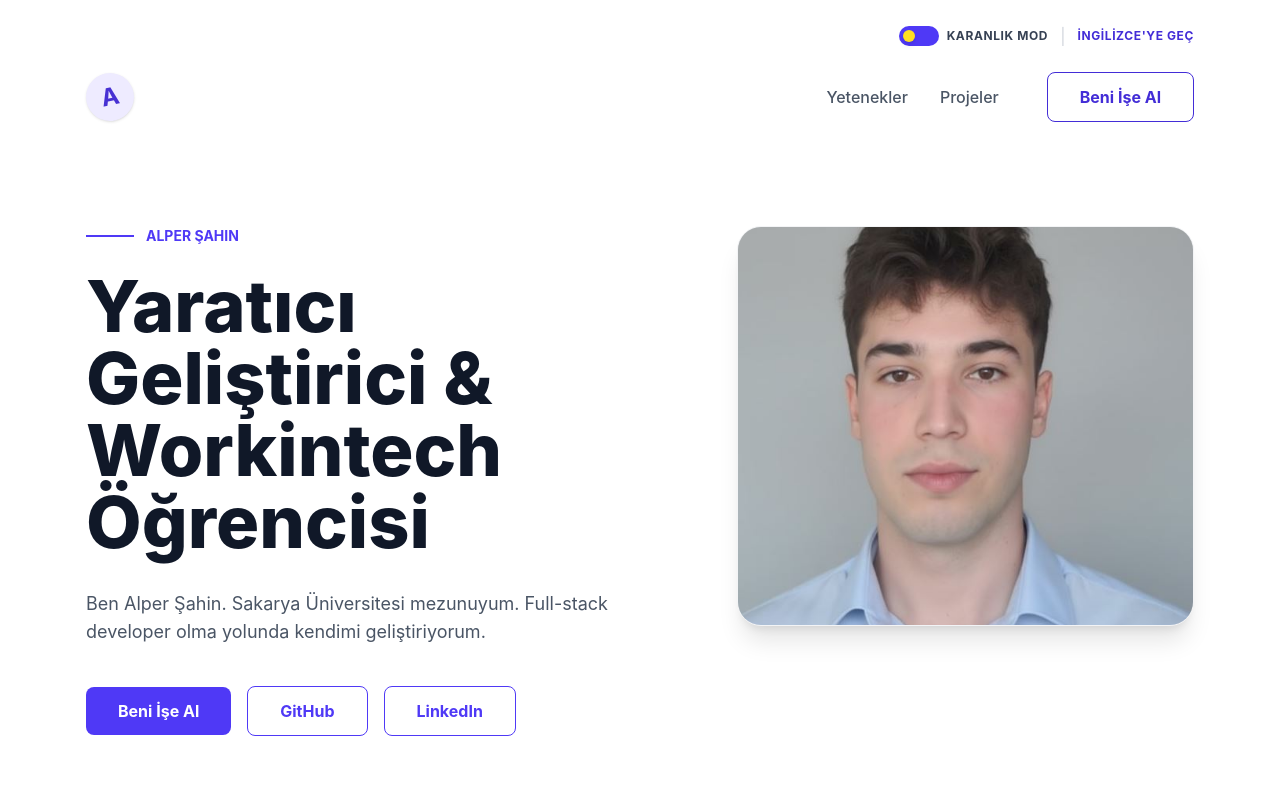
Scenario: Kişisel Portfolyo Testleri › Dil değiştirme mekanizması çalışıyor mu?
What coordinates should you click on to do the following:
click the text with test id "language-toggle"
I would click on:
 (1137, 36)
Its box is [1078,28,1195,44].
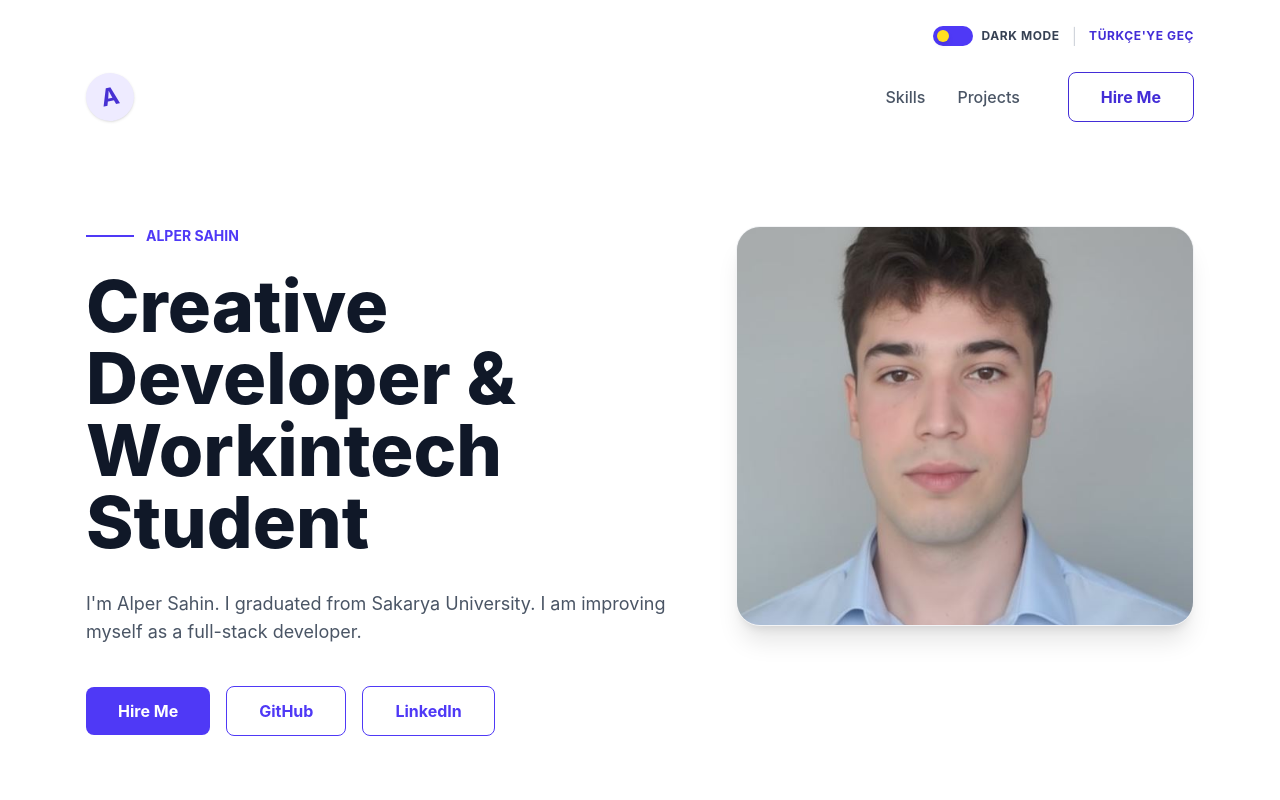
expect the button with test id "hireme-button" reads "Hire Me": met, box [86,687,210,735]
